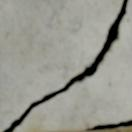brick: (0, 0, 121, 131), (15, 0, 131, 131)
crack: (1, 0, 129, 131), (85, 119, 131, 131)
